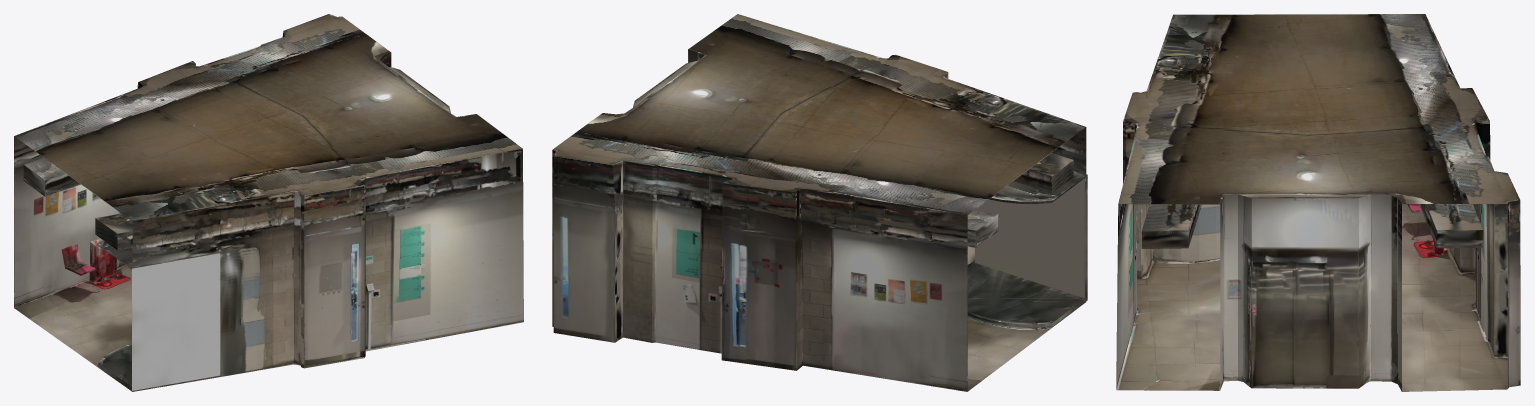
File: 1-corr-2-v2.fbx
The picture shows the model from 3 angles, left to right: view 1: azimuth 30°, elevation 25°; view 2: azimuth 150°, elevation 25°; view 3: azimuth 270°, elevation 25°; orthographic projection. The views are drawn at different scales.
Parts seen in each view (by area): view 1: 1-corr-2-v2; view 2: 1-corr-2-v2; view 3: 1-corr-2-v2.
Part boxes in pixels (bbox=[...]): 1-corr-2-v2: bbox=[14, 14, 523, 391]; 1-corr-2-v2: bbox=[552, 14, 1087, 391]; 1-corr-2-v2: bbox=[1116, 14, 1520, 391].
Bounding box in the file's own units: 708 × 320 × 625.
1 material, 1 textured.
